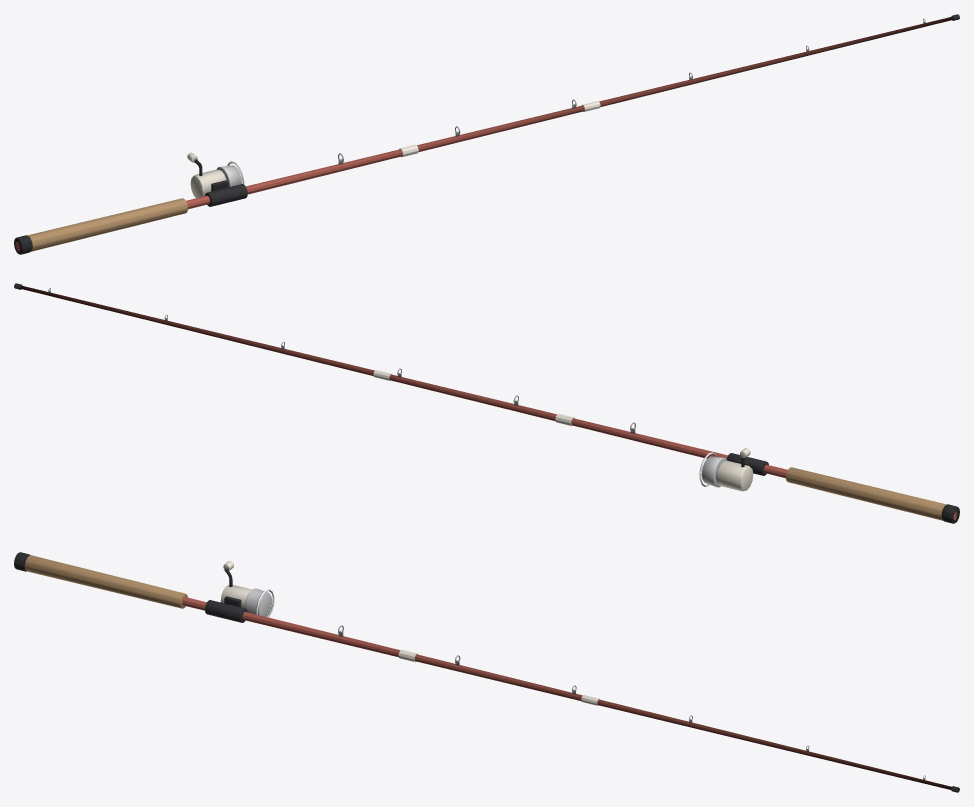
File: rod_glass.glb
3 renders of one model, top to bottom at view 1: azimuth 30°, elevation 25°; view 2: azimuth 150°, elevation 25°; view 3: azimuth 330°, elevation 25°, orthographic.
Visible parts, largest first — view 1: PART; view 2: PART; view 3: PART.
Boxes of the visible parts, x1,y1,x2,y2 form: PART: (14, 14, 959, 254); PART: (14, 283, 959, 523); PART: (14, 552, 959, 792).
Bounding box in the file's own units: 1.81 × 0.0884 × 0.0939.
